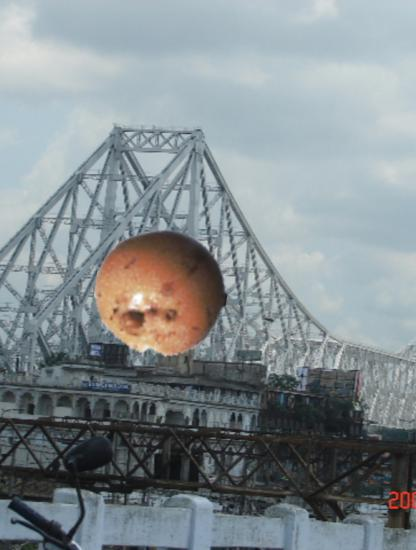Granadilla: (95, 226, 228, 359)
